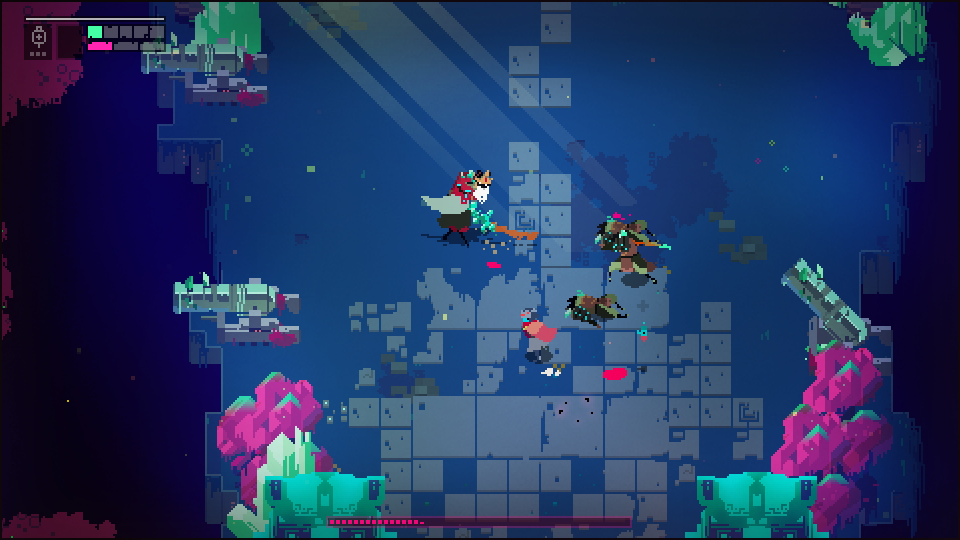hanged_man: (420, 166, 520, 243)
player: (519, 306, 558, 363)
